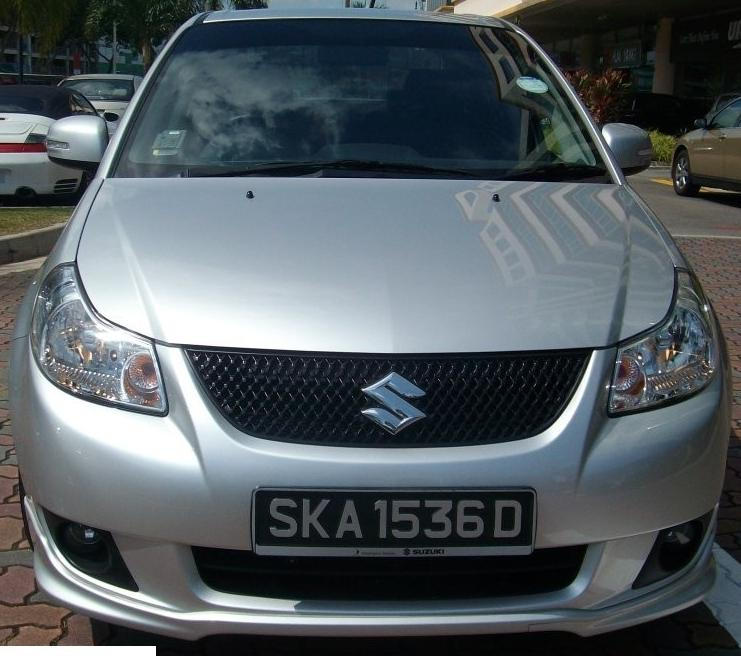front_view: (22, 247, 722, 623)
headlight: (597, 265, 729, 418)
